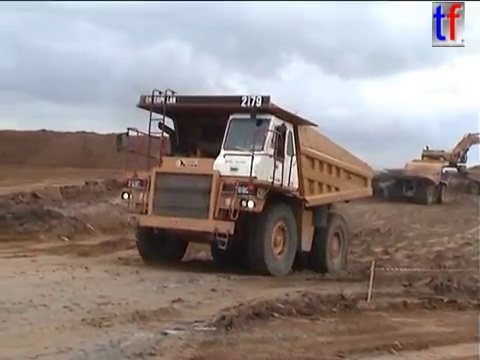excavator: (419, 131, 480, 179)
truck: (113, 86, 375, 279), (382, 158, 450, 205), (460, 167, 480, 198)
